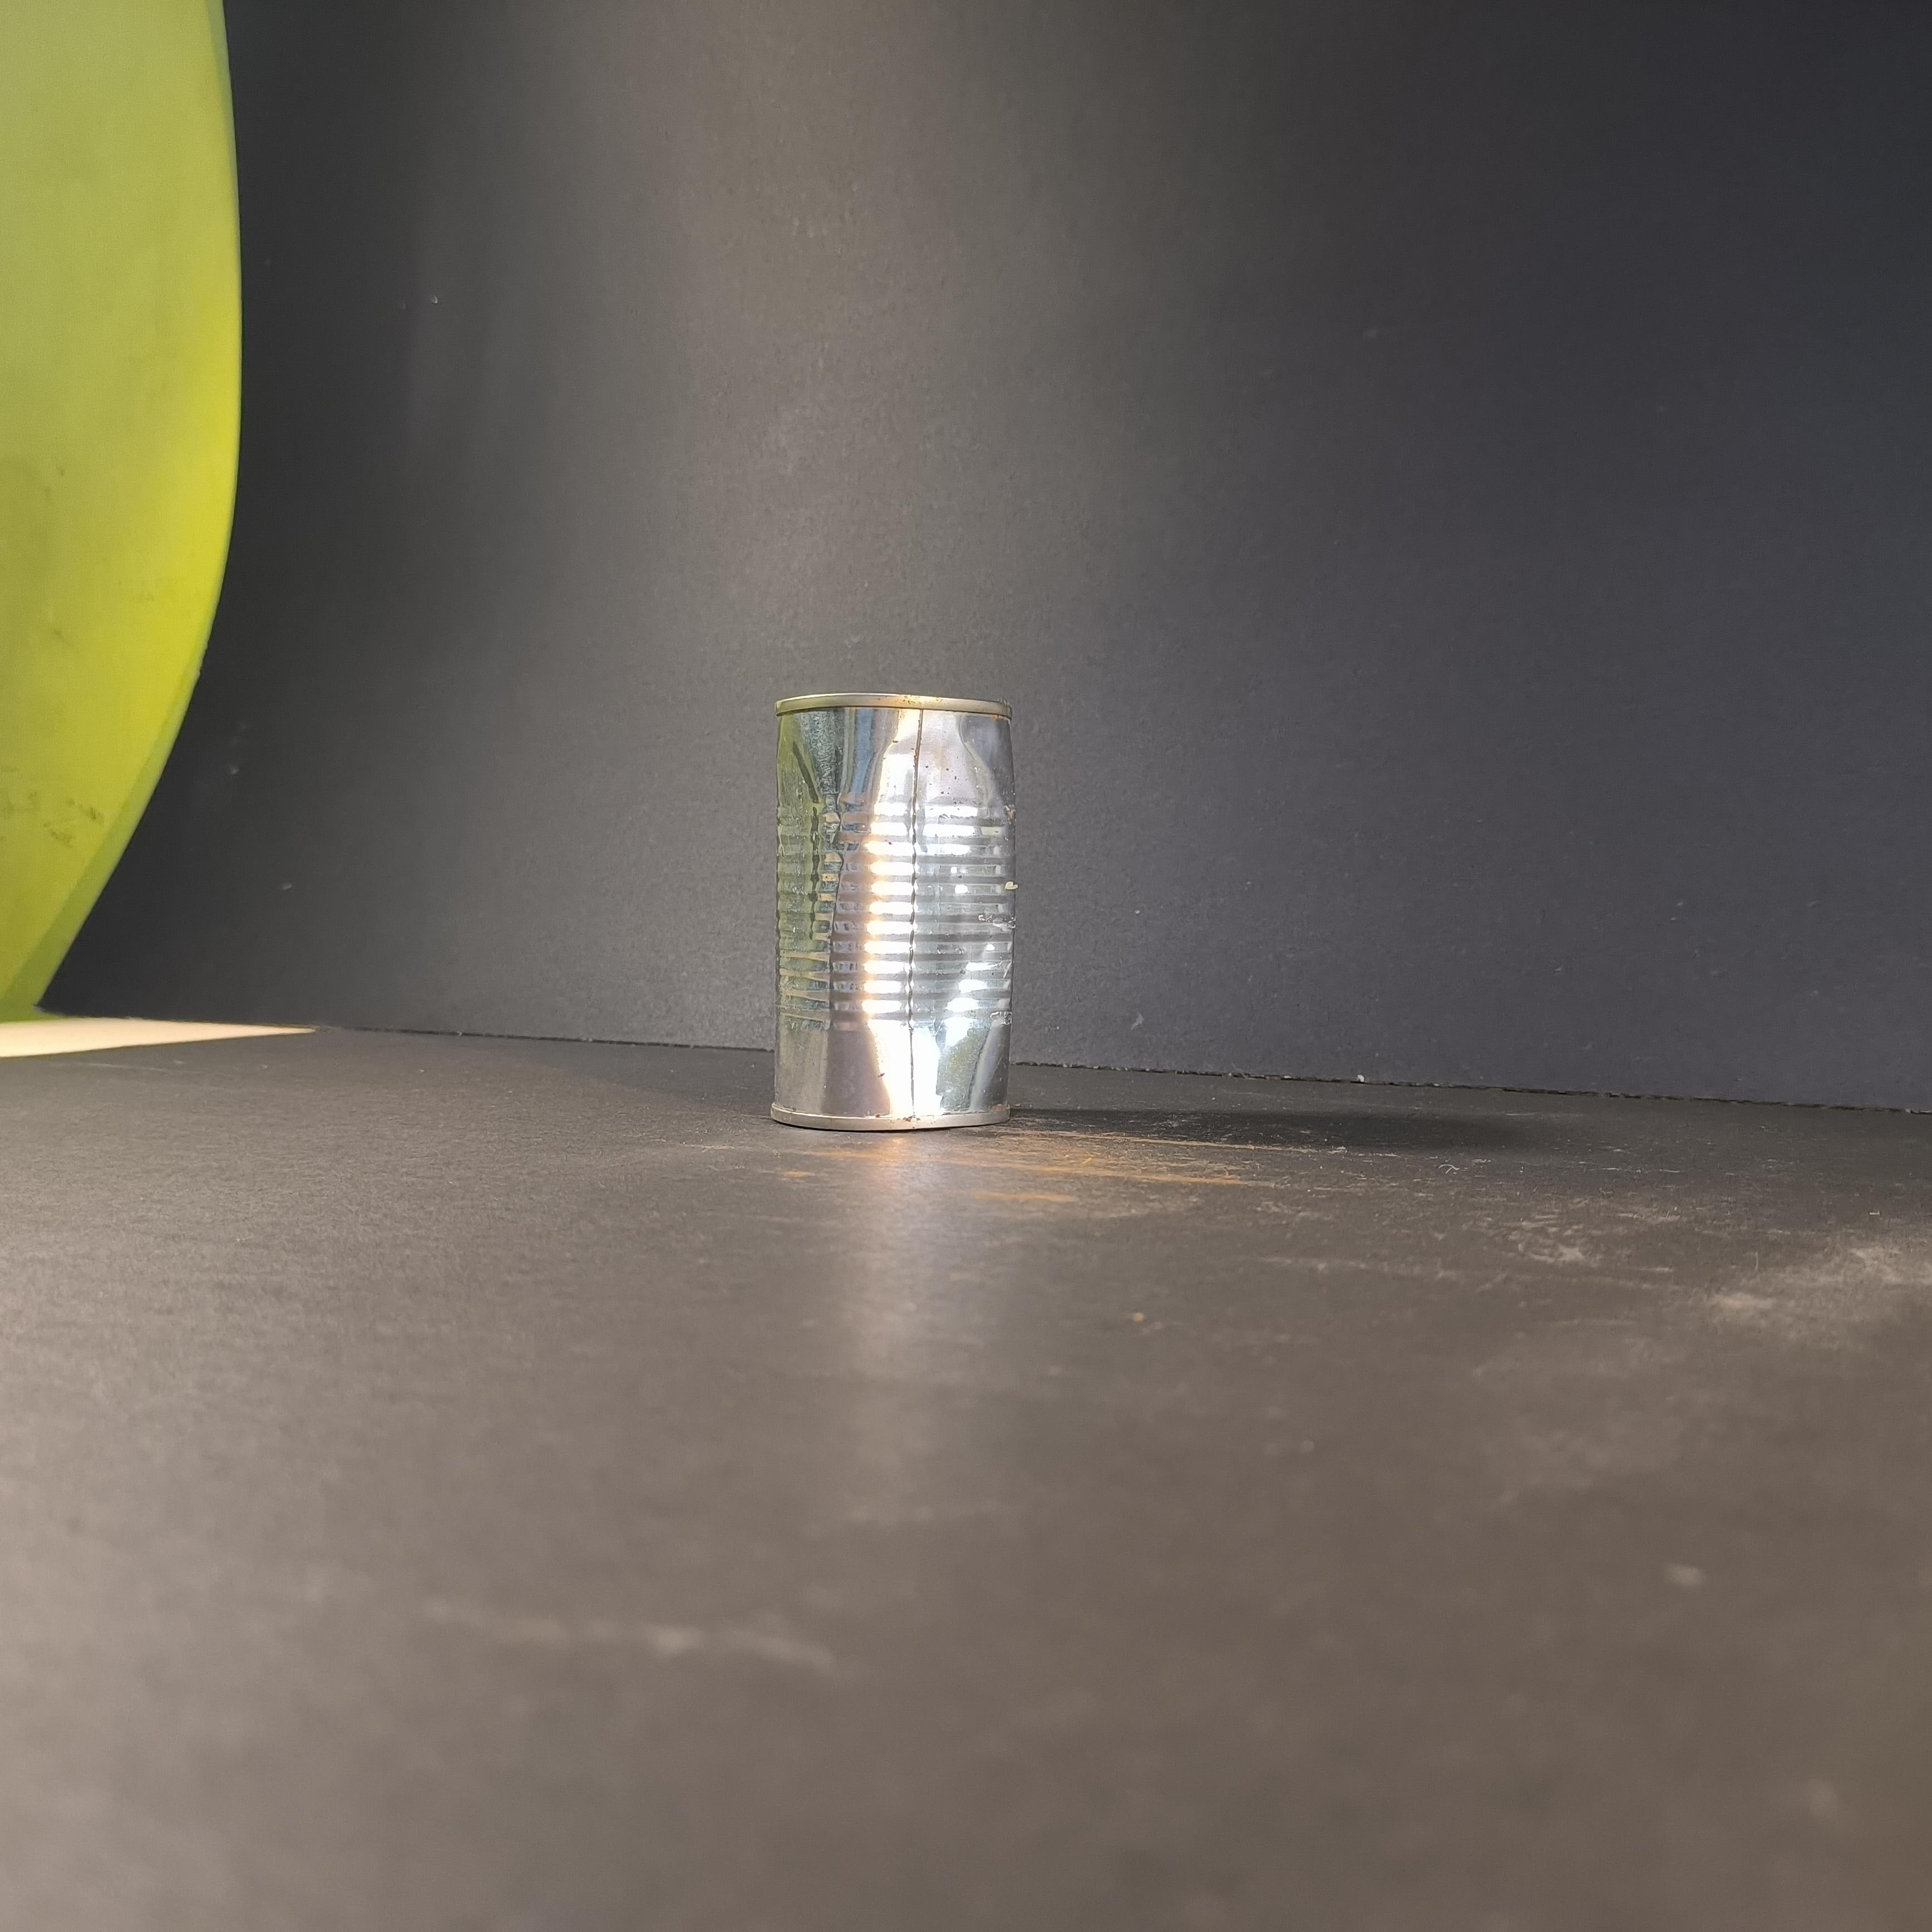Dented: (754, 674, 1035, 1148)
